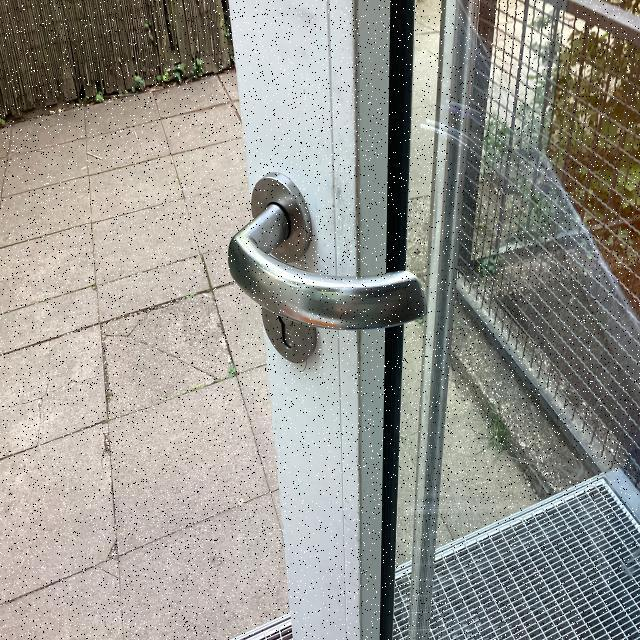doorhandle: (180, 166, 442, 379)
